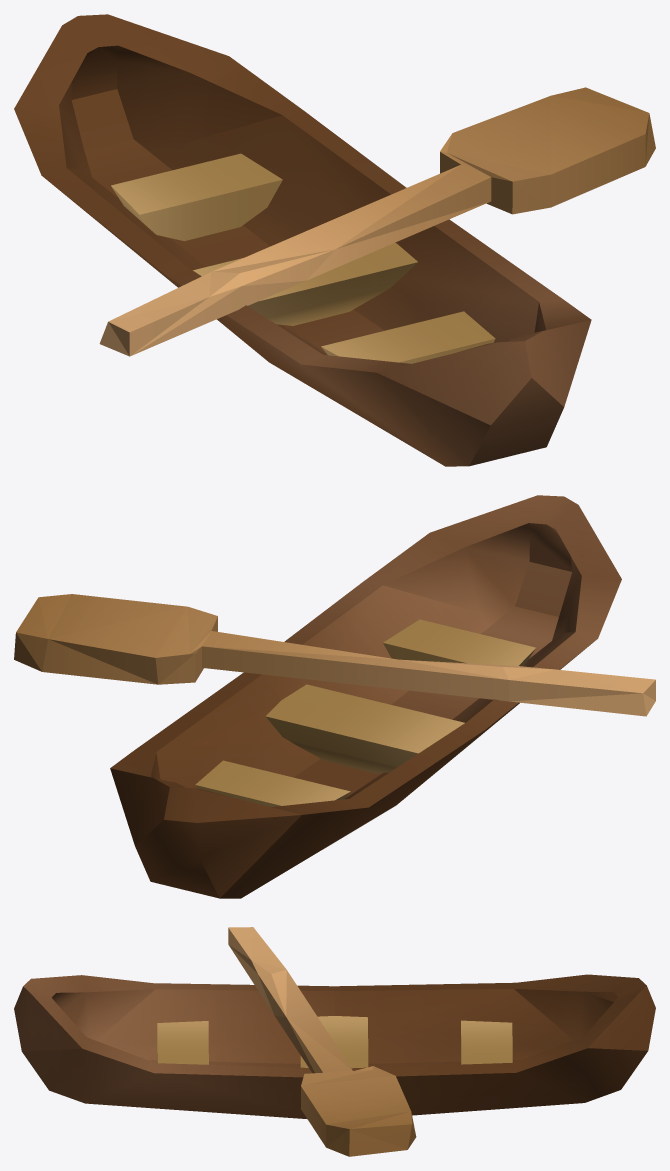
File: Canoe.fbx
The picture shows the model from 3 angles, top to bottom: view 1: azimuth 30°, elevation 25°; view 2: azimuth 150°, elevation 25°; view 3: azimuth 270°, elevation 25°; orthographic projection. The views are drawn at different scales.
Parts seen in each view (by area): view 1: Canoe_Body, Canoe_Paddle; view 2: Canoe_Body, Canoe_Paddle; view 3: Canoe_Body, Canoe_Paddle.
Part boxes in pixels (left/top/right/bottom): Canoe_Body: left=14, top=14, right=591, bottom=466; Canoe_Paddle: left=99, top=87, right=655, bottom=356; Canoe_Body: left=110, top=495, right=621, bottom=898; Canoe_Paddle: left=14, top=594, right=655, bottom=716; Canoe_Body: left=14, top=974, right=655, bottom=1118; Canoe_Paddle: left=228, top=927, right=416, bottom=1156.
Size of the model in its own units: 2.05 by 0.5537 by 2.61.
Materials: 1 (1 with a texture image).
